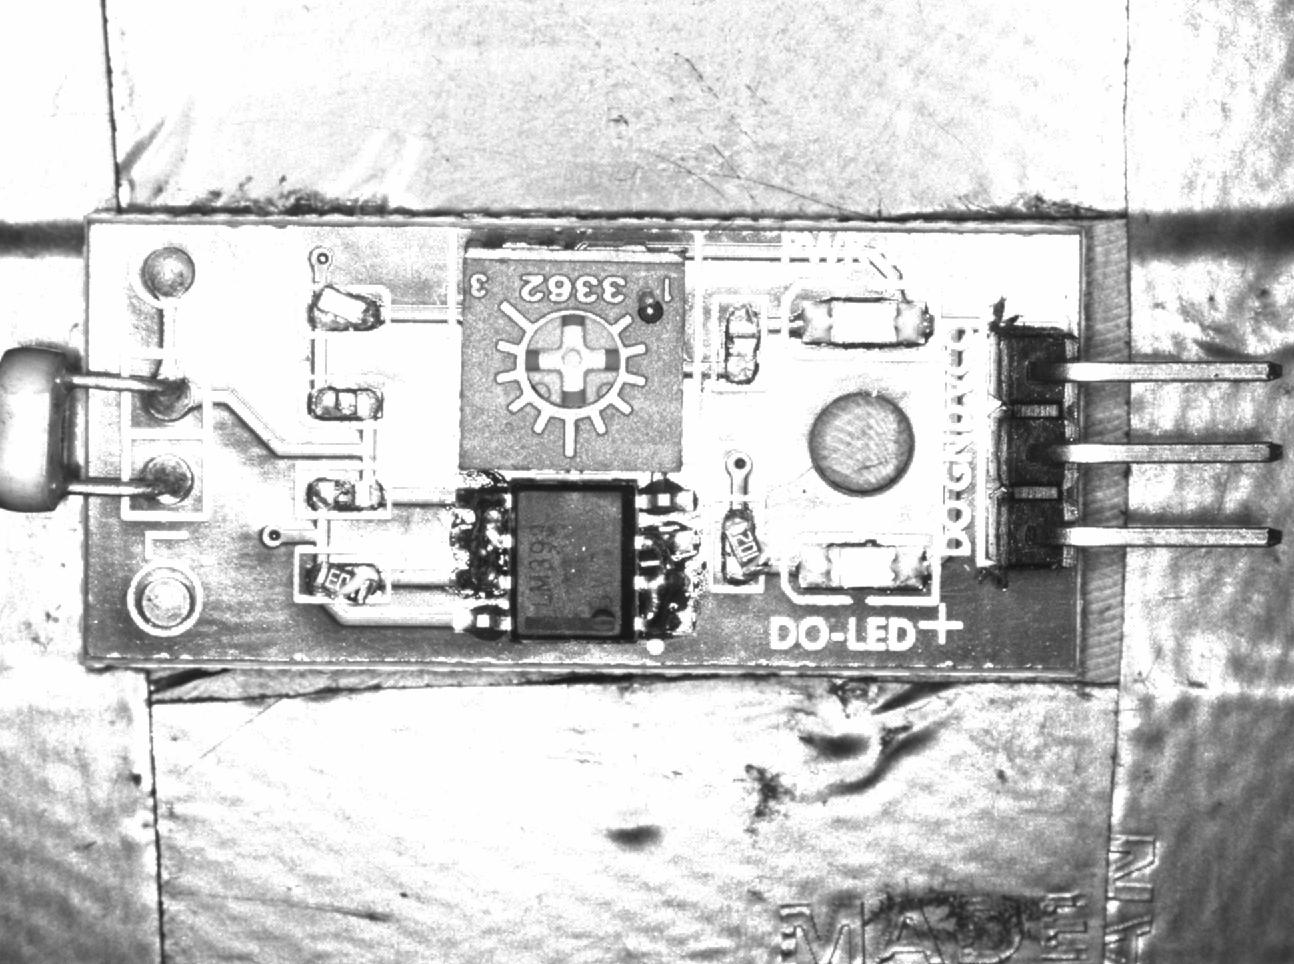bridge: (634, 523, 699, 636), (453, 481, 512, 604)
lifted: (293, 549, 392, 606), (714, 495, 767, 591), (303, 286, 389, 334)
miss: (294, 462, 393, 517), (714, 295, 769, 388), (300, 376, 391, 427)
